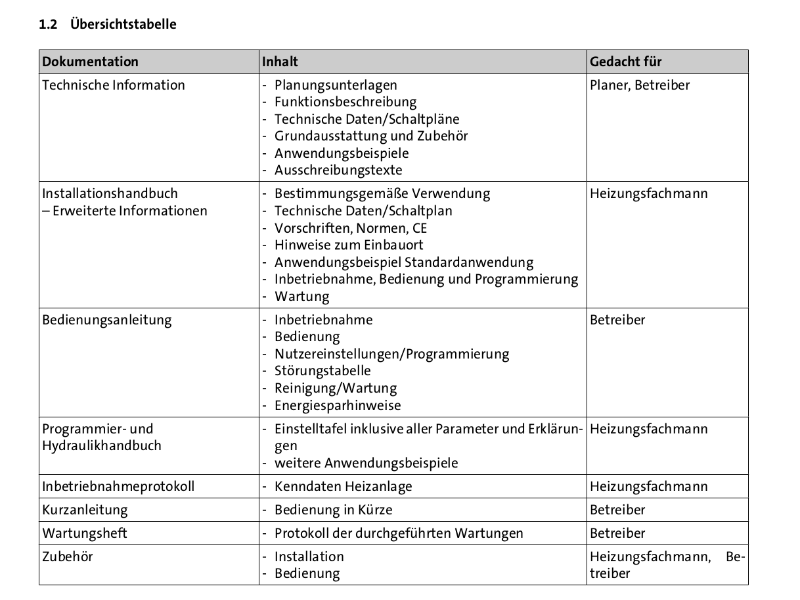border: (25, 40, 768, 594)
cell: (261, 186, 584, 305), (261, 311, 578, 414), (261, 76, 514, 177), (262, 420, 584, 471), (41, 185, 233, 223), (42, 309, 234, 347), (40, 418, 232, 456), (260, 523, 544, 542), (589, 548, 747, 581), (261, 550, 380, 582), (42, 76, 190, 97), (41, 477, 214, 494), (261, 476, 420, 493), (261, 501, 423, 517), (588, 184, 717, 203), (589, 419, 718, 438), (589, 476, 718, 495), (589, 499, 718, 518), (589, 523, 718, 542), (588, 75, 710, 95), (41, 501, 159, 518), (41, 52, 146, 70), (41, 525, 153, 541), (39, 549, 151, 565), (589, 51, 671, 69), (589, 311, 656, 329), (261, 52, 313, 69)
